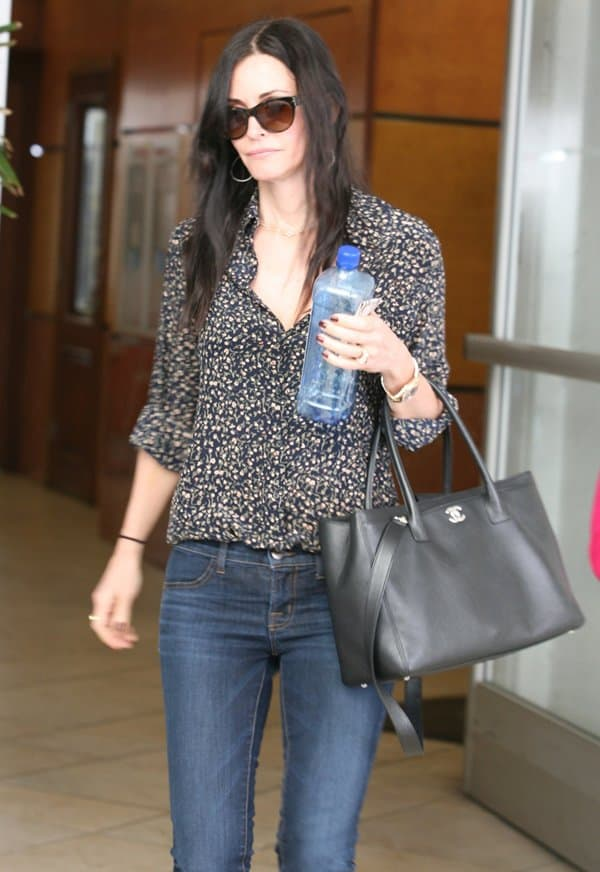channel: (298, 468, 589, 690), (439, 487, 497, 545)
